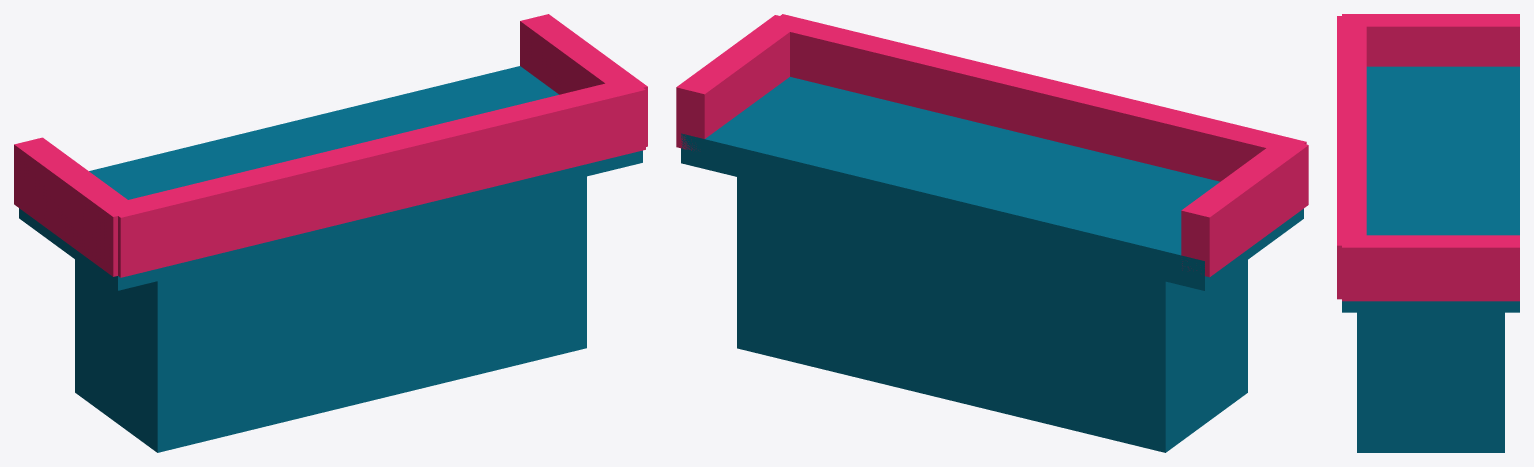
Rendered from tray.glb.
3 renders of one model, left to right at view 1: azimuth 30°, elevation 25°; view 2: azimuth 150°, elevation 25°; view 3: azimuth 270°, elevation 25°, orthographic. The views are drawn at different scales.
Parts seen in each view (by area): view 1: Leg, Front, Floor, SideR, SideL; view 2: Leg, Floor, Front, SideR, SideL; view 3: Floor, Leg, SideL, SideR, Front.
Part boxes in pixels (left/top/right/bottom): Leg: left=75, top=176, right=586, bottom=452; Front: left=104, top=77, right=645, bottom=277; Floor: left=19, top=66, right=642, bottom=290; SideR: left=14, top=137, right=139, bottom=276; SideL: left=520, top=14, right=647, bottom=146; Leg: left=737, top=177, right=1247, bottom=452; Floor: left=681, top=77, right=1303, bottom=290; Front: left=767, top=14, right=1306, bottom=181; SideR: left=1181, top=138, right=1308, bottom=277; SideL: left=676, top=15, right=802, bottom=150; Floor: left=1342, top=66, right=1519, bottom=312; Leg: left=1357, top=312, right=1504, bottom=452; SideL: left=1342, top=235, right=1519, bottom=301; SideR: left=1342, top=14, right=1519, bottom=66; Front: left=1337, top=16, right=1366, bottom=299.
Bounding box in the file's own units: 1.12 × 0.51 × 0.37.
